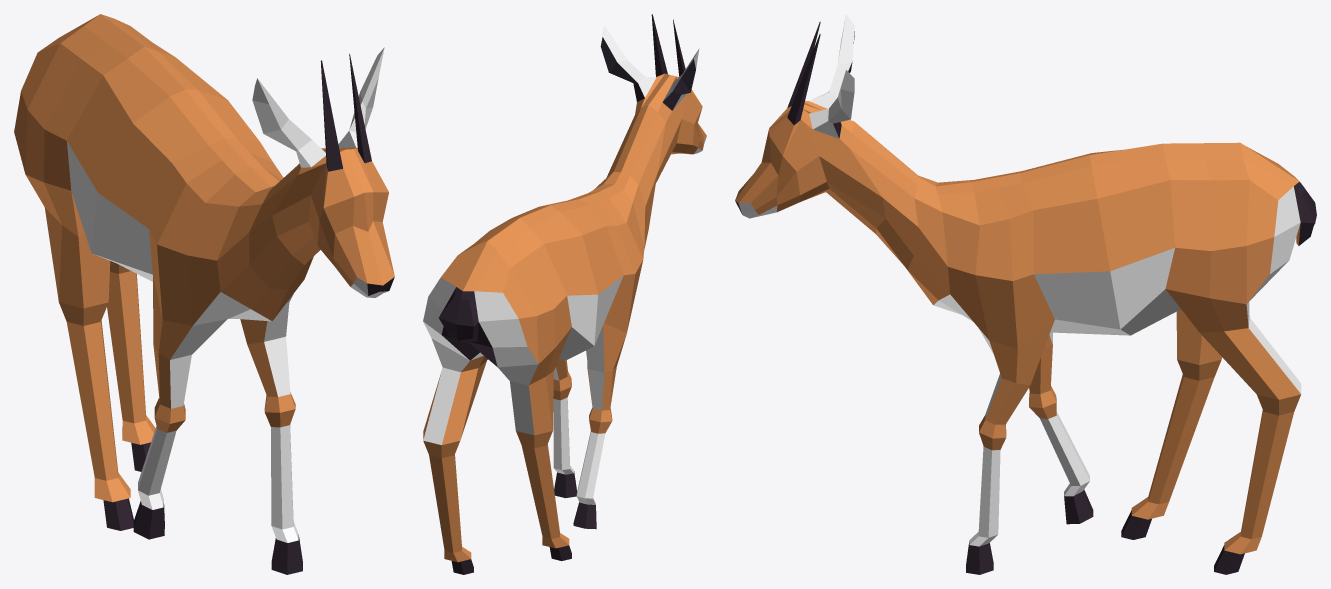
File: Antilope1.fbx
The picture shows the model from 3 angles, left to right: view 1: azimuth 30°, elevation 25°; view 2: azimuth 150°, elevation 25°; view 3: azimuth 270°, elevation 25°; orthographic projection. The views are drawn at different scales.
Parts seen in each view (by area): view 1: Antilope.002; view 2: Antilope.002; view 3: Antilope.002.
Part boxes in pixels (<box>): Antilope.002: <box>14,14,394,574</box>; Antilope.002: <box>423,14,706,574</box>; Antilope.002: <box>735,14,1316,574</box>.
Bounding box in the file's own units: 0.444 × 1.63 × 1.64.
